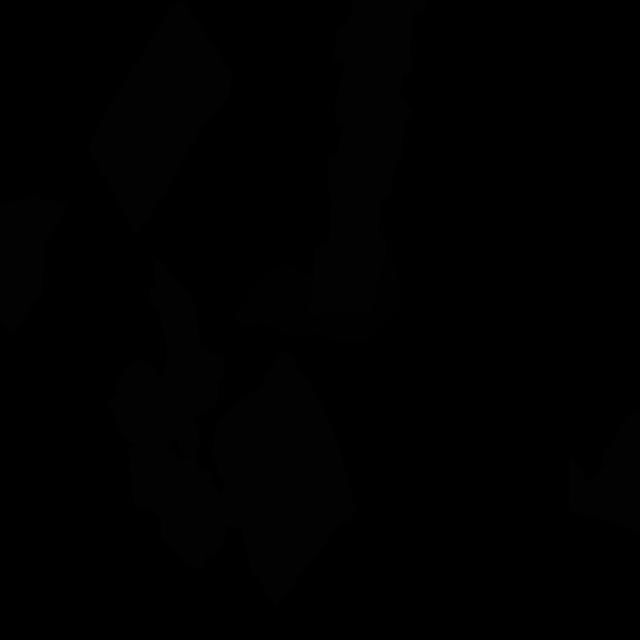cardboard: (308, 0, 427, 316), (212, 351, 356, 606), (88, 0, 232, 237), (106, 255, 224, 458), (126, 442, 252, 571), (0, 197, 69, 333), (569, 406, 640, 535)
rigid_plastic: (234, 258, 403, 342)
